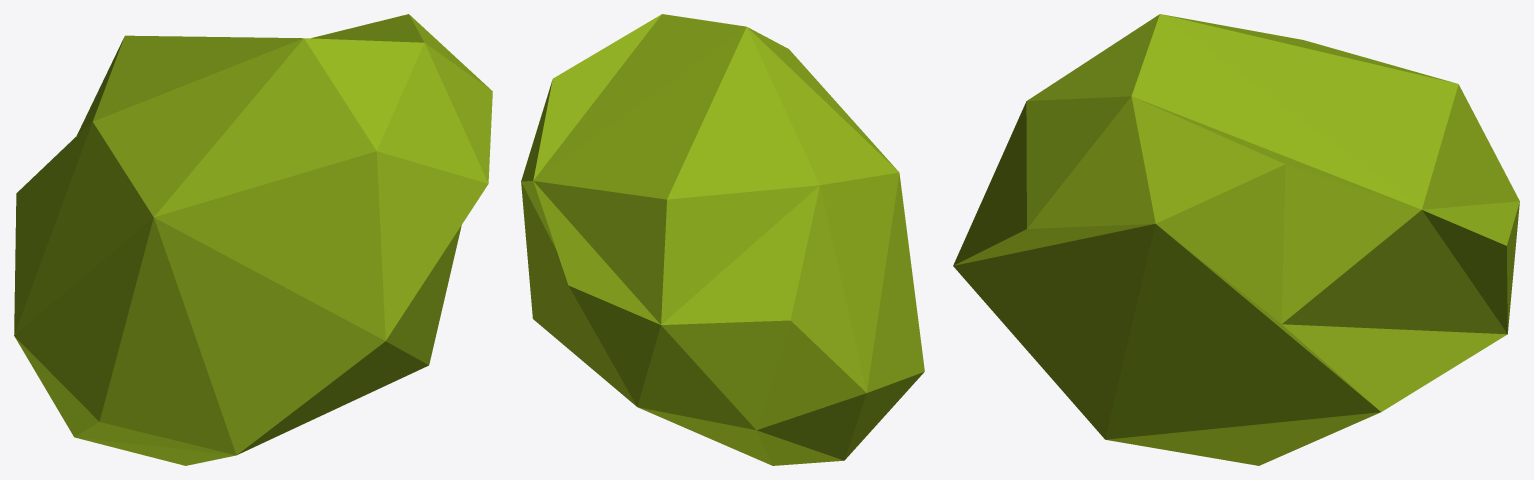
Rendered from Vegetation_Modular_Tree_Foliage_Clump_Small_05.fbx.
3 views of the same model, side by side, from view 1: azimuth 30°, elevation 25°; view 2: azimuth 150°, elevation 25°; view 3: azimuth 270°, elevation 25° (orthographic). The views are drawn at different scales.
Visible parts, largest first — view 1: Vegetation_Modular_Tree_Foliage_Clump_Small_05; view 2: Vegetation_Modular_Tree_Foliage_Clump_Small_05; view 3: Vegetation_Modular_Tree_Foliage_Clump_Small_05.
Boxes of the visible parts, x1,y1,x2,y2 form: Vegetation_Modular_Tree_Foliage_Clump_Small_05: (14,14,492,465); Vegetation_Modular_Tree_Foliage_Clump_Small_05: (521,14,924,465); Vegetation_Modular_Tree_Foliage_Clump_Small_05: (953,14,1519,465).
Size of the model in its own units: 702 by 722 by 754.
